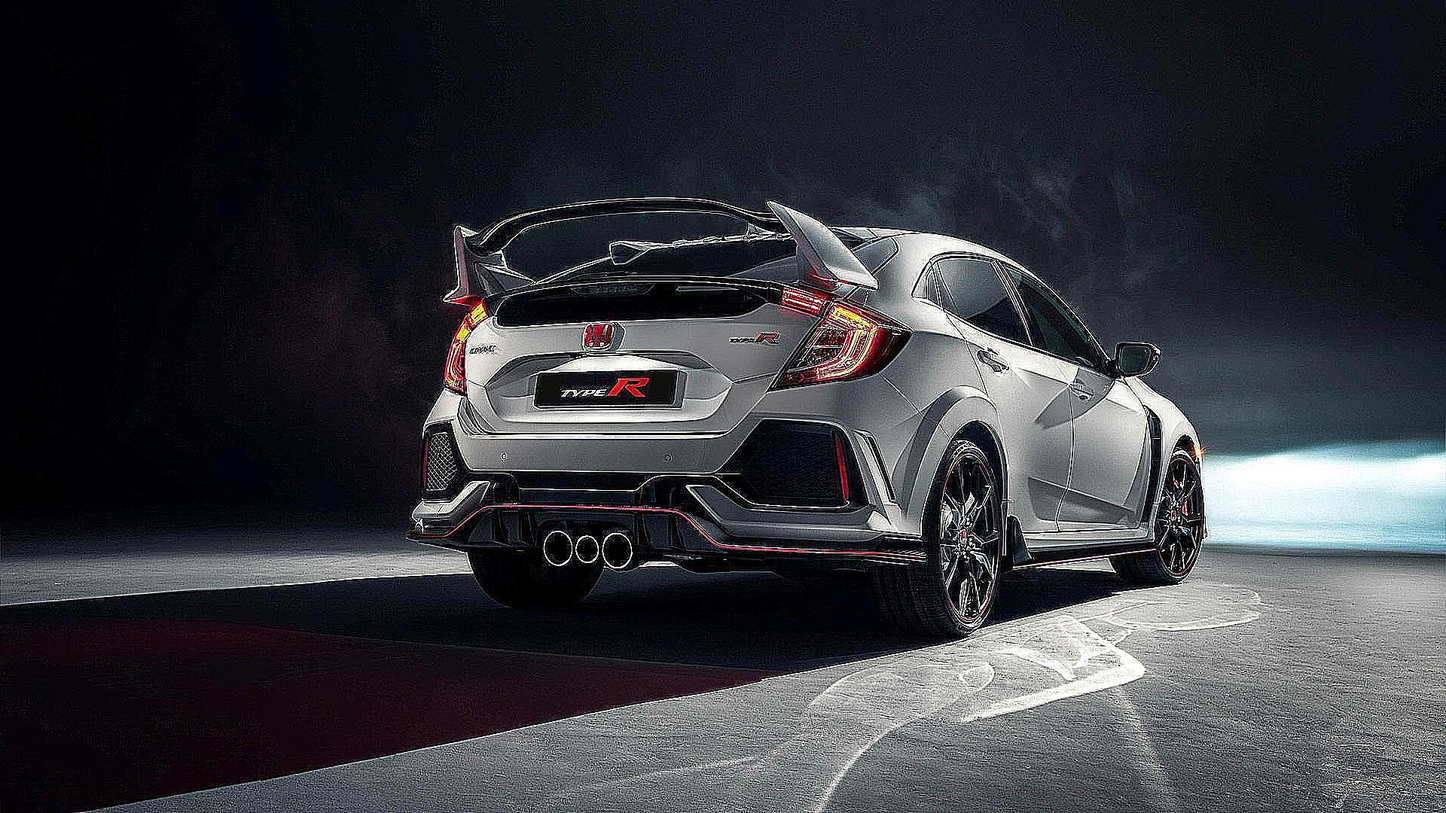Car boot: (463, 277, 828, 436)
Driver-s door - -F-R-: (1047, 256, 1151, 527)
Fender - -F-R-: (1124, 363, 1192, 548)
Fender - -R-R-: (846, 285, 1017, 578)
Passenger-s door - -R-R-: (927, 243, 1071, 524)
Rear bumper: (388, 373, 937, 590)
Rear light - -L-: (423, 291, 494, 400)
Rear light - -R-: (768, 277, 913, 399)
Side bumper - -R-: (1004, 519, 1166, 569)
